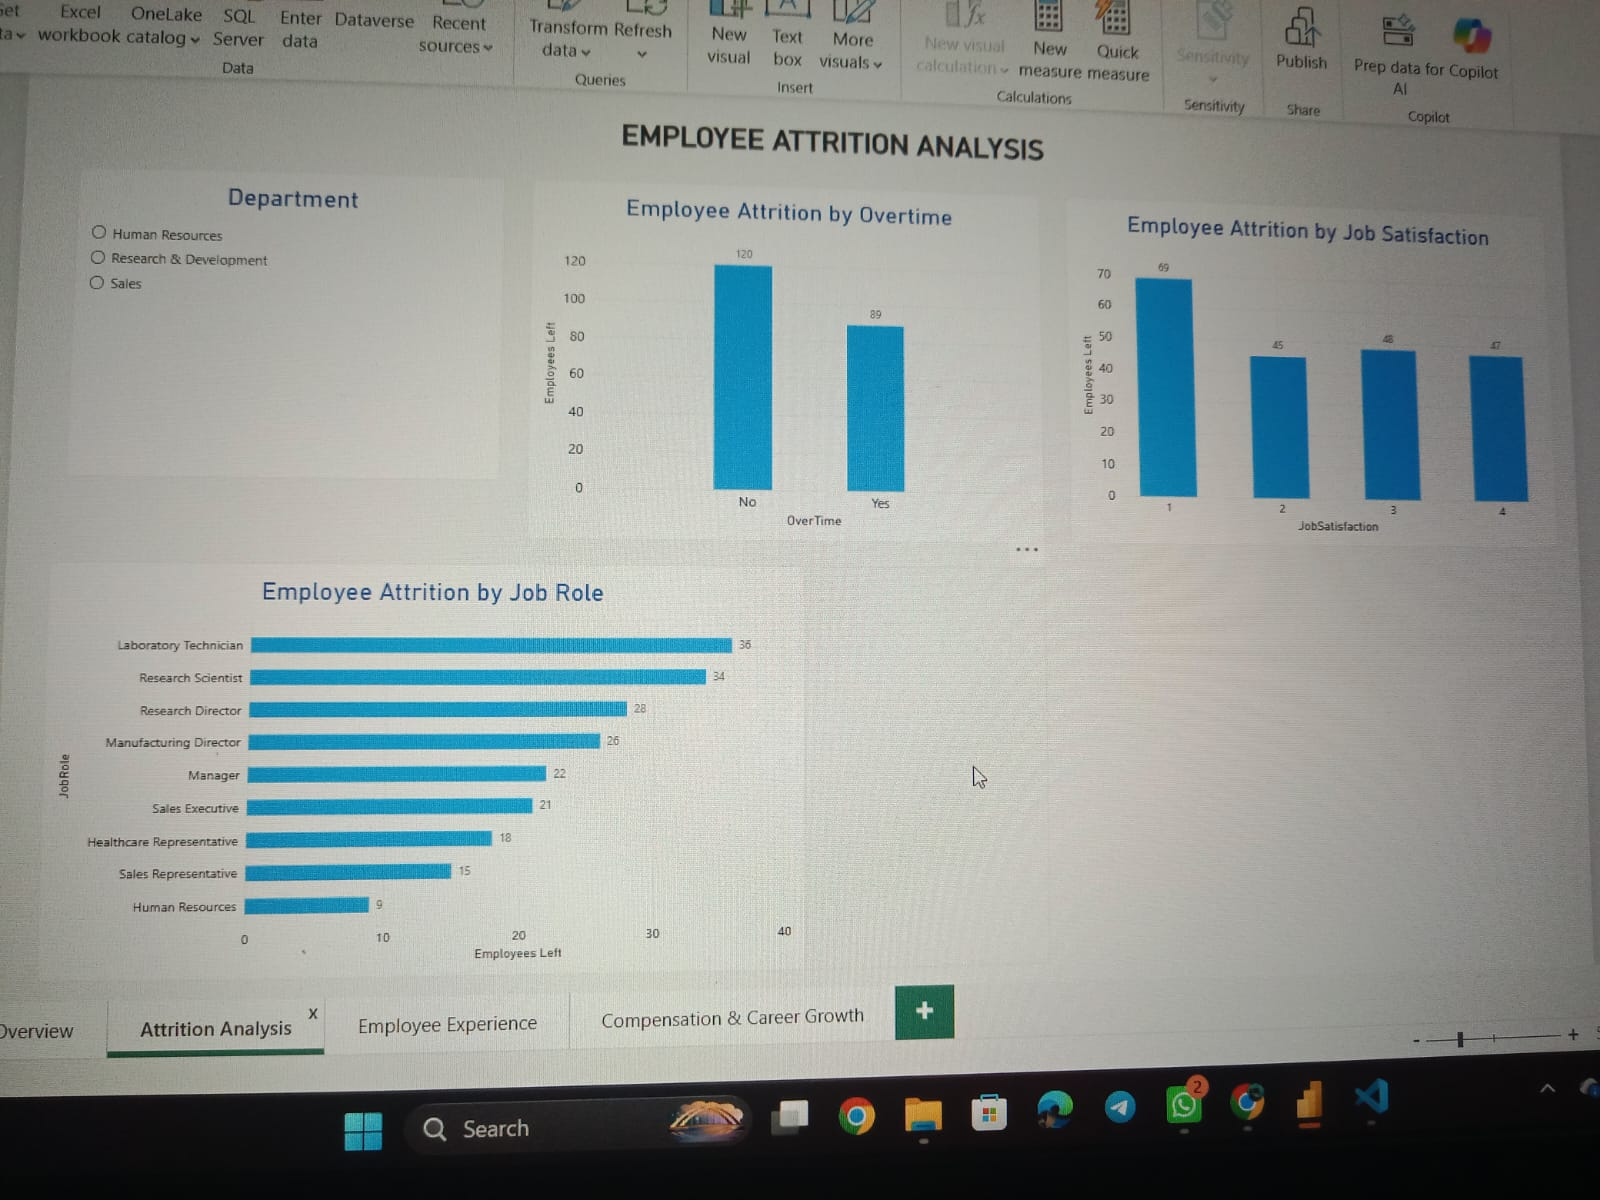

This screenshot's page, from the dashboard's own definition file:
{"tool":"powerbi","page":{"name":"Attrition Analysis","canvas":[1920,1080],"ordinal":1},"visuals":[{"type":"clusteredColumnChart","title":"Employee Attrition by Overtime","fields":{"Category":["hr_analytics employees.OverTime"],"Y":["hr_analytics employees.Employees Left"]},"box":[591.8,114,624.3,437.9],"z":0},{"type":"clusteredColumnChart","title":"Employee Attrition by Job Satisfaction","fields":{"Category":["hr_analytics employees.JobSatisfaction"],"Y":["hr_analytics employees.Employees Left"]},"box":[1248.7,114,644.2,437.9],"z":1},{"type":"clusteredBarChart","title":"Employee Attrition by Job Role","fields":{"Category":["hr_analytics employees.JobRole"],"Y":["hr_analytics employees.Employees Left"]},"box":[48.9,580.9,872.3,477.8],"z":2},{"type":"listSlicer","fields":{"Values":["hr_analytics employees.Department"]},"box":[63.3,114,496,368],"z":3},{"type":"textbox","box":[921,581,295,478],"z":4},{"type":"textbox","title":"EMPLOYEE ATTRITION ANALYSIS","box":[0,34.4,1920.1,56.1],"z":5}]}

Visuals, with their boxes on the page's 1920x1080 design canvas (x1, y1, x2, y2). These are canvas units, not pixel positions in the 1600x1200 screenshot, which may show the page scaled, cropped or inside an application window:
"Employee Attrition by Overtime" clusteredColumnChart: (x1=592, y1=114, x2=1216, y2=552)
"Employee Attrition by Job Satisfaction" clusteredColumnChart: (x1=1249, y1=114, x2=1893, y2=552)
"Employee Attrition by Job Role" clusteredBarChart: (x1=49, y1=581, x2=921, y2=1059)
listSlicer - hr_analytics employees.Department: (x1=63, y1=114, x2=559, y2=482)
textbox: (x1=921, y1=581, x2=1216, y2=1059)
"EMPLOYEE ATTRITION ANALYSIS" textbox: (x1=0, y1=34, x2=1920, y2=90)
